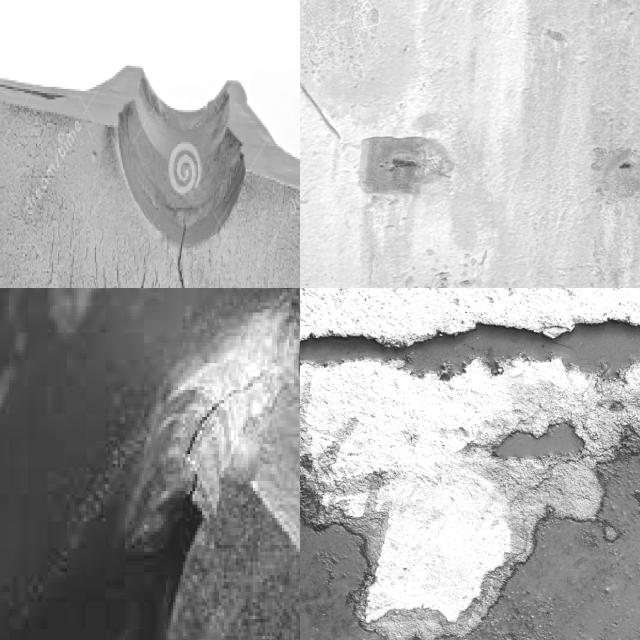Crack: (5, 177, 267, 288), (159, 309, 300, 498)
Uniform Corrosion: (436, 446, 640, 640), (300, 321, 640, 378), (364, 137, 451, 195), (495, 424, 584, 459), (590, 147, 640, 207)
